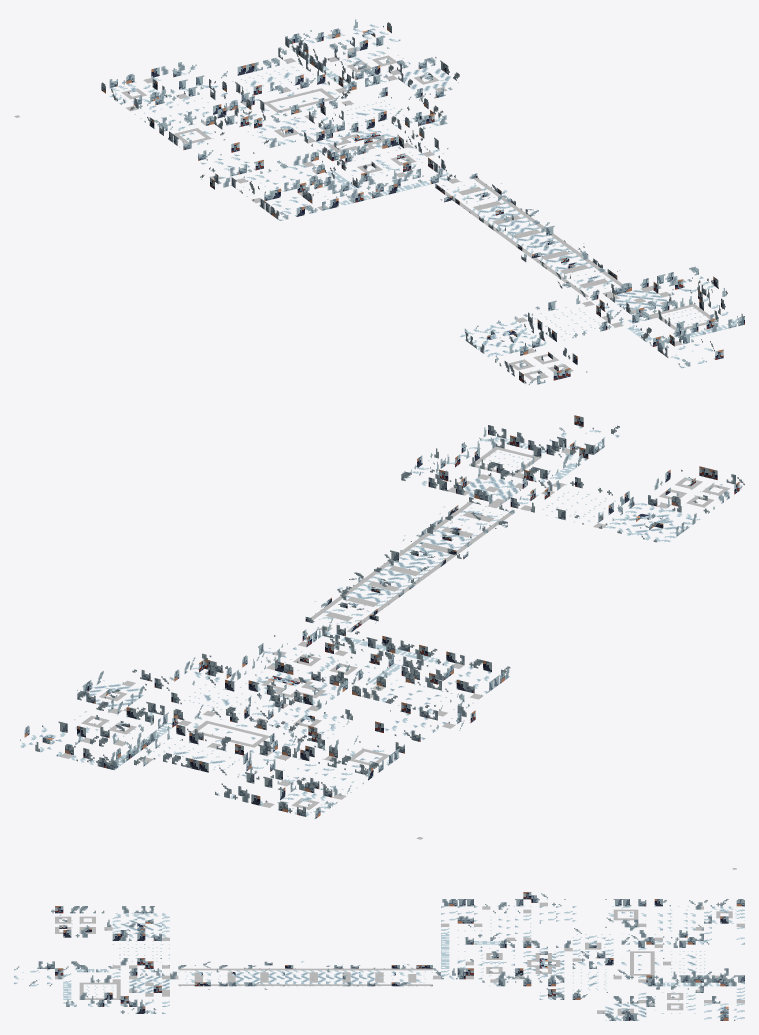
The model's file is map2.gltf.
3 renders of one model, top to bottom at view 1: azimuth 30°, elevation 25°; view 2: azimuth 150°, elevation 25°; view 3: azimuth 270°, elevation 25°, orthographic. The views are drawn at different scales.
Size of the model in its own units: 176 by 4 by 356.
